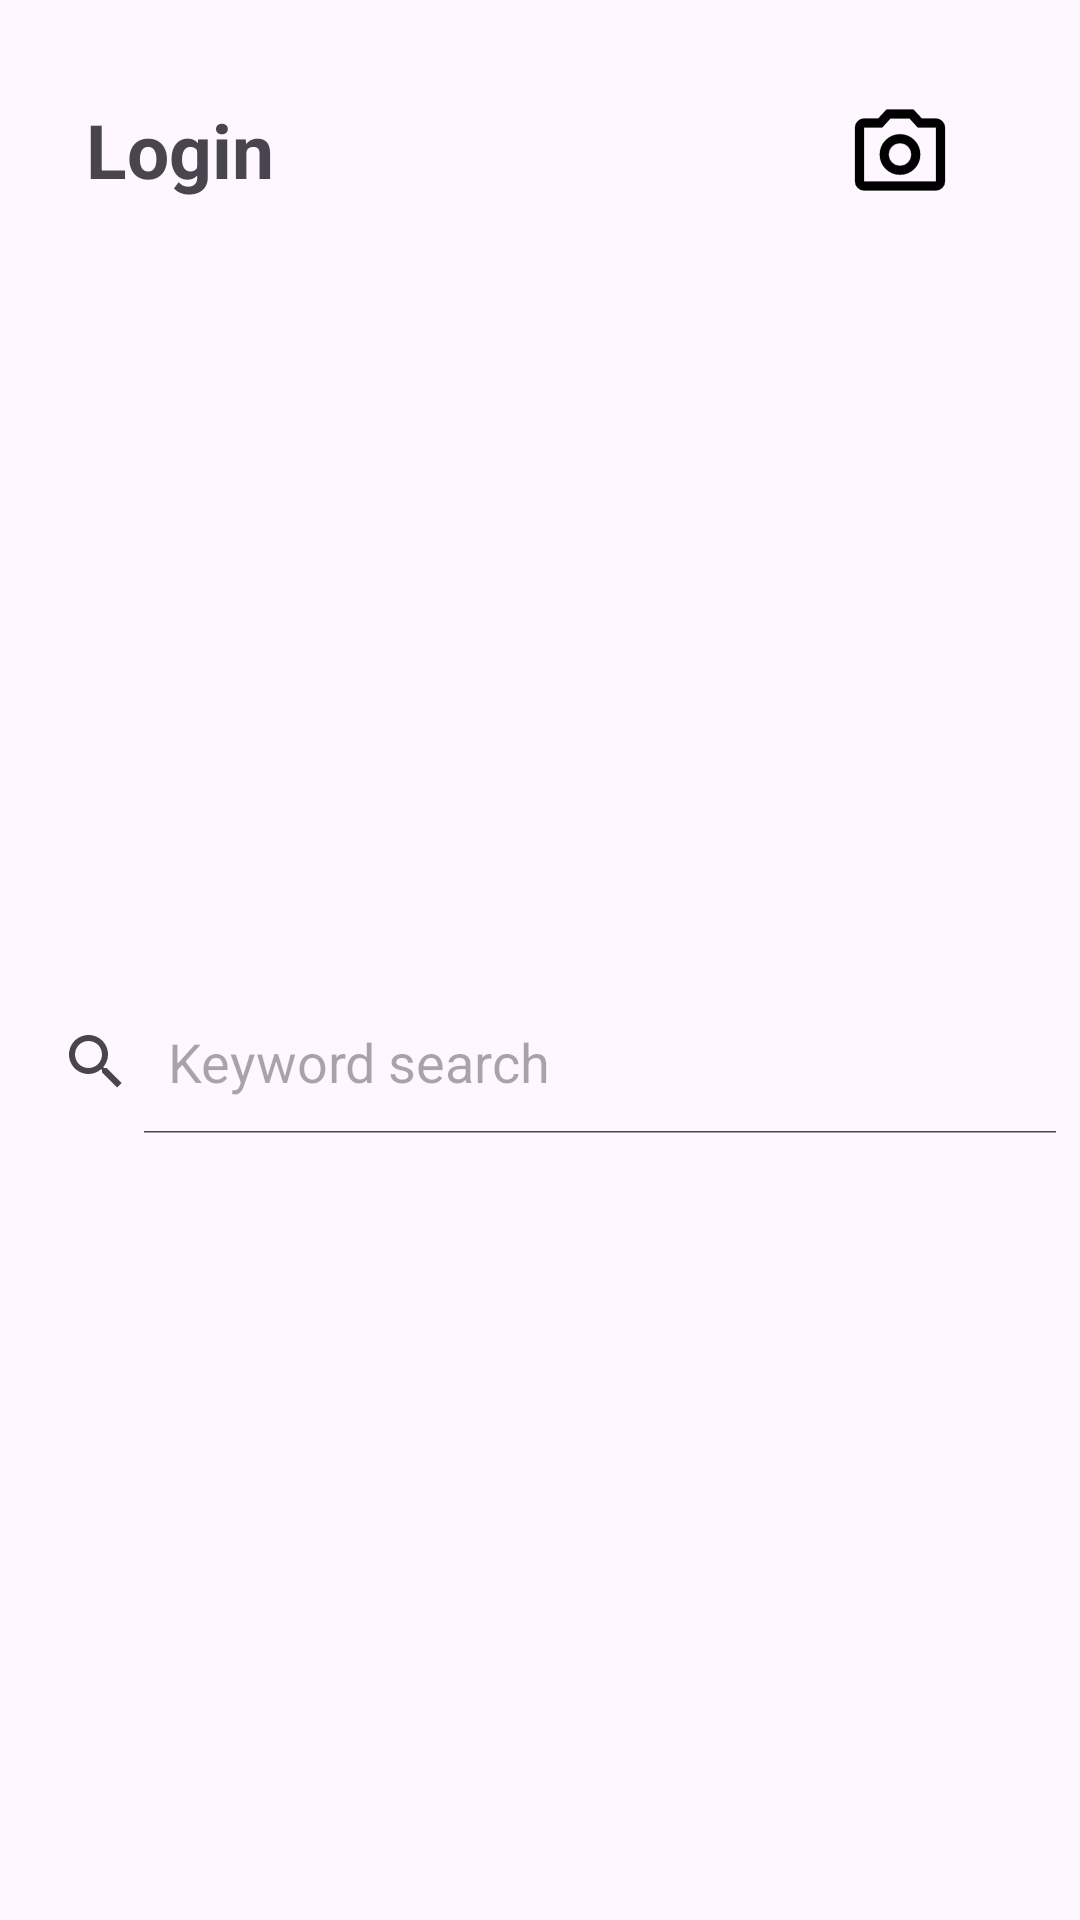

Named icons in this screenshot (1080x1920) and their centers, point (x, y):
camera icon: point (900, 150)
